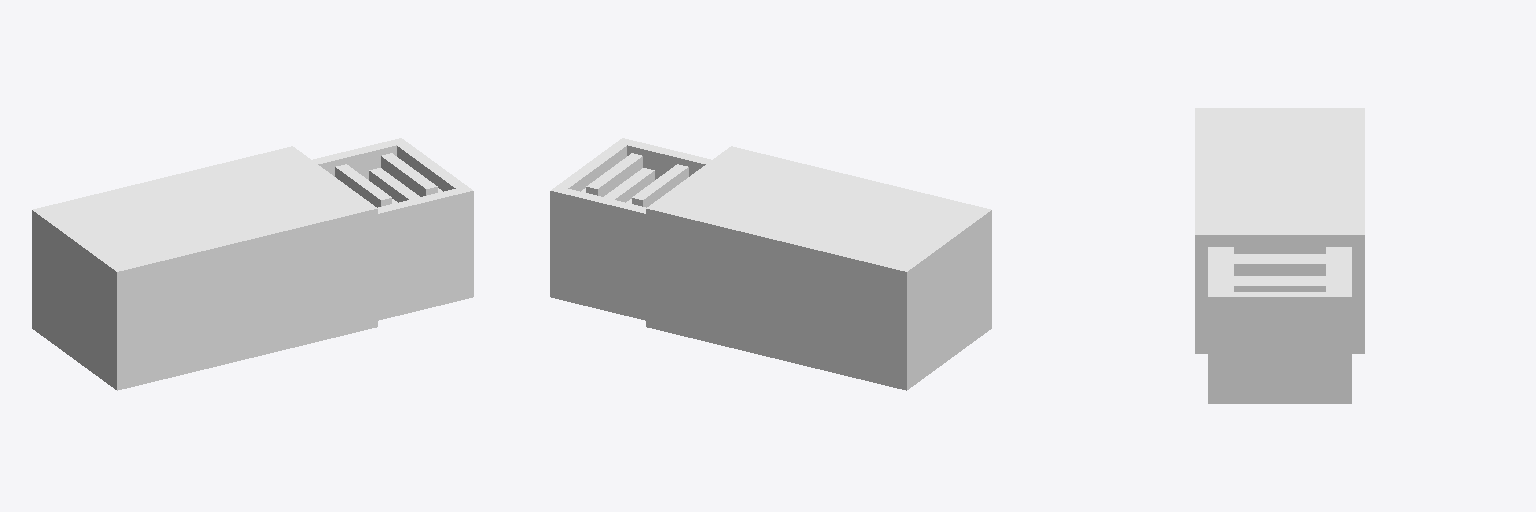
The model's file is sboxb.obj.
The picture shows the model from 3 angles: view 1: azimuth 30°, elevation 25°; view 2: azimuth 150°, elevation 25°; view 3: azimuth 270°, elevation 25°; orthographic projection.
Parts seen in each view (by area): view 1: object 1; view 2: object 1; view 3: object 1.
Part boxes in pixels (bbox=[...]): object 1: bbox=[32, 138, 473, 390]; object 1: bbox=[550, 138, 991, 390]; object 1: bbox=[1195, 108, 1364, 403].
Size of the model in its own units: 3.2 by 1 by 1.3.